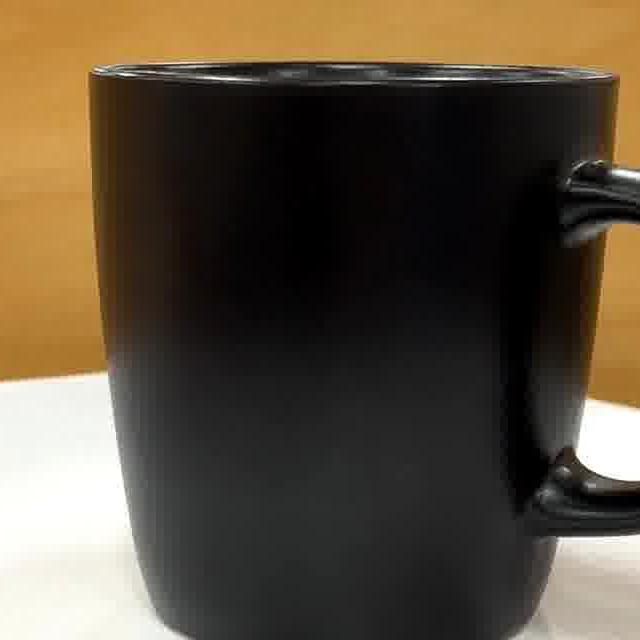cup: (96, 62, 640, 640)
